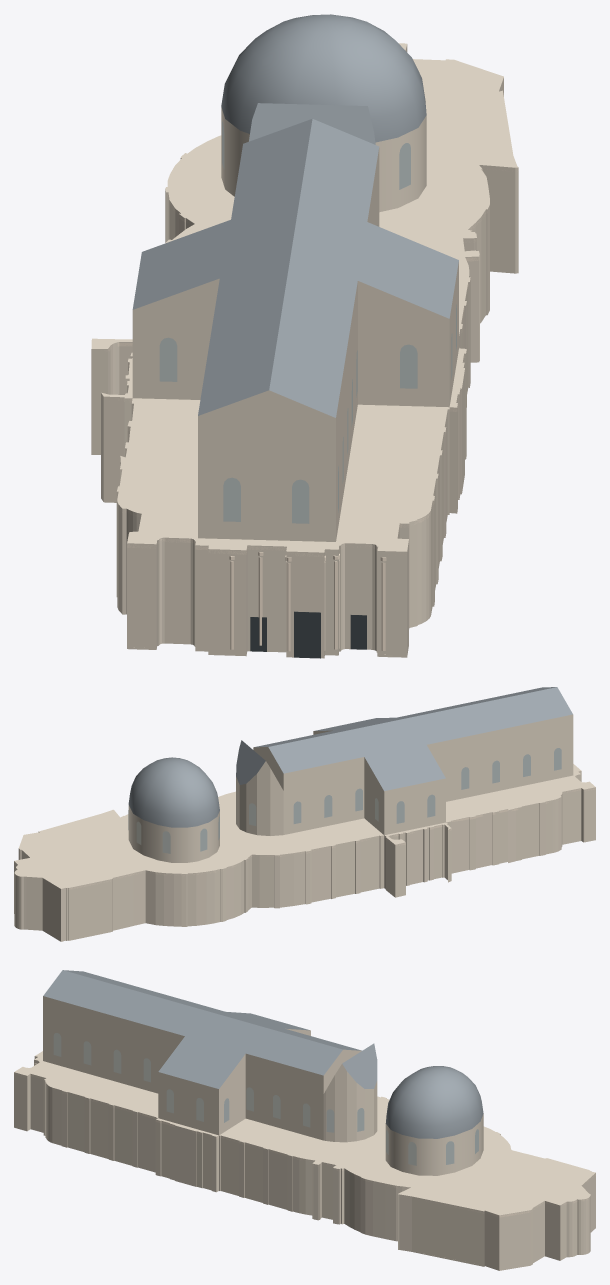
3 views of the same model, one above another, from view 1: azimuth 30°, elevation 25°; view 2: azimuth 150°, elevation 25°; view 3: azimuth 270°, elevation 25° (orthographic). The views are drawn at different scales.
Visible parts, largest first — view 1: stone, roof, window, trim, recess; view 2: stone, roof, window, trim; view 3: stone, roof, window, trim.
Boxes of the visible parts, <box> form: stone: <box>91,43,518,658</box>; roof: <box>132,14,458,417</box>; window: <box>159,121,456,523</box>; trim: <box>101,47,518,651</box>; recess: <box>250,611,366,658</box>; stone: <box>14,714,595,941</box>; roof: <box>128,687,572,827</box>; window: <box>128,748,561,853</box>; trim: <box>14,772,595,889</box>; stone: <box>14,996,595,1270</box>; roof: <box>43,970,483,1138</box>; window: <box>53,1033,478,1165</box>; trim: <box>14,1061,595,1217</box>.
Bounding box in the file's own units: 90.28 × 30 × 114.
